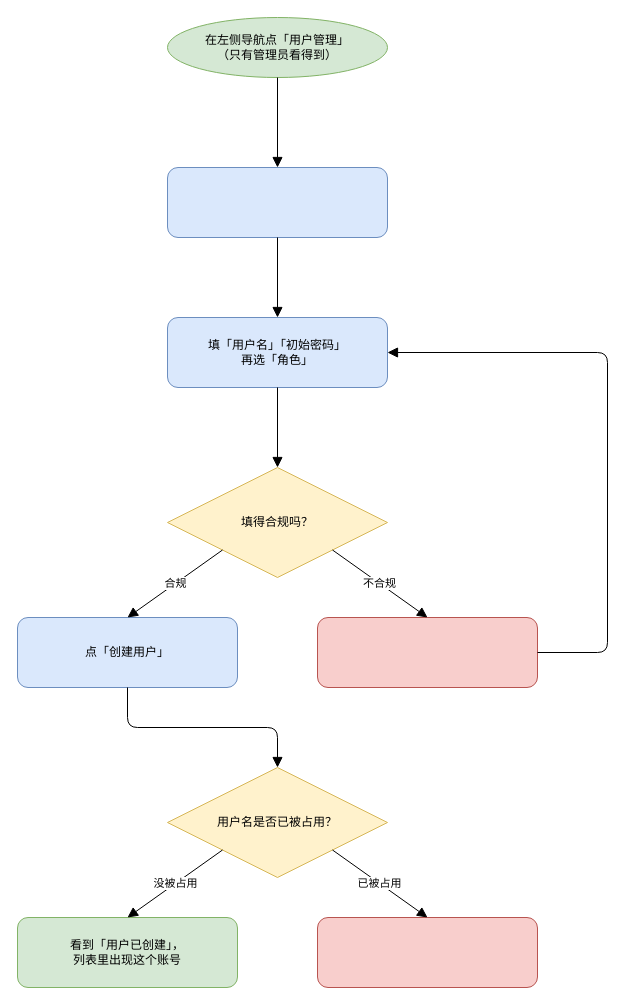
Some shapes in this 635 by 1005 pixel diagram are drawn without their labels. The box of each missing label's shape, as (x1, y1, x2, y2) in pixels:
点右上角「创建用户」: (166, 166, 388, 238)
看到「用户名已存在」: (316, 916, 538, 988)
看到「请填写用户名」 或「密码长度不能少于 8 位」: (316, 616, 538, 688)
